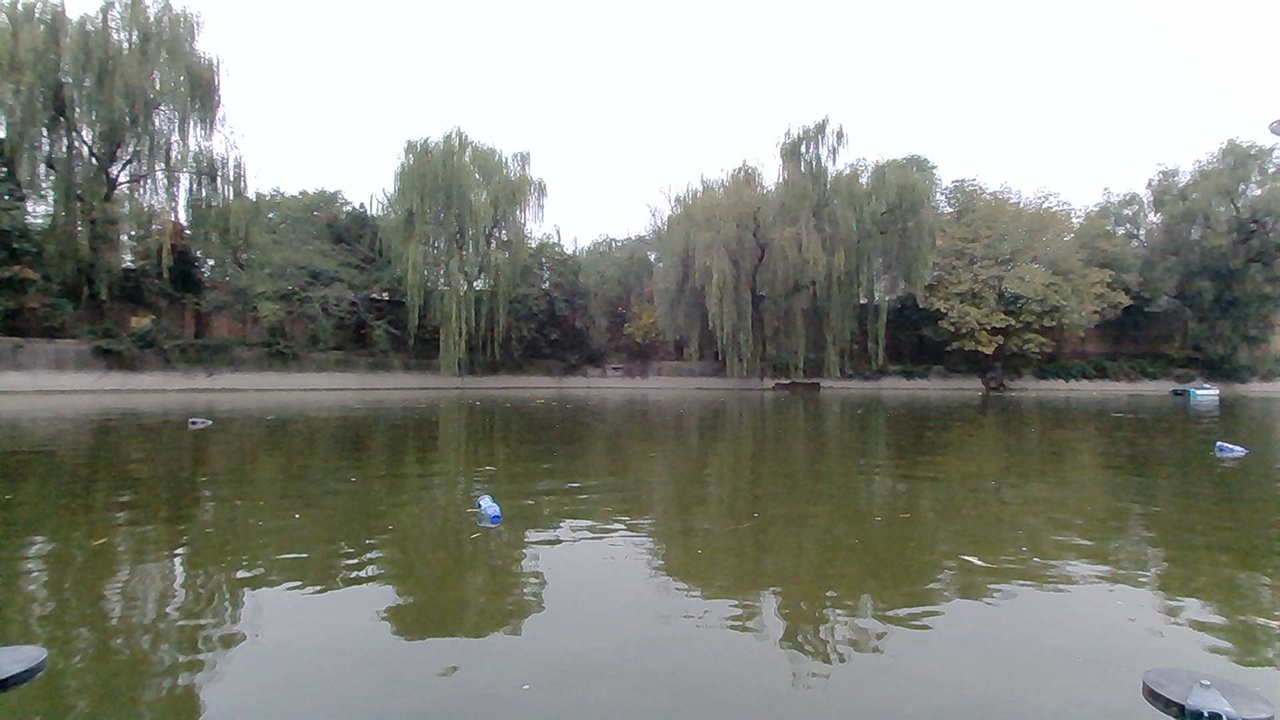bottle: (465, 493, 515, 530), (1207, 437, 1252, 471), (187, 400, 219, 434)
